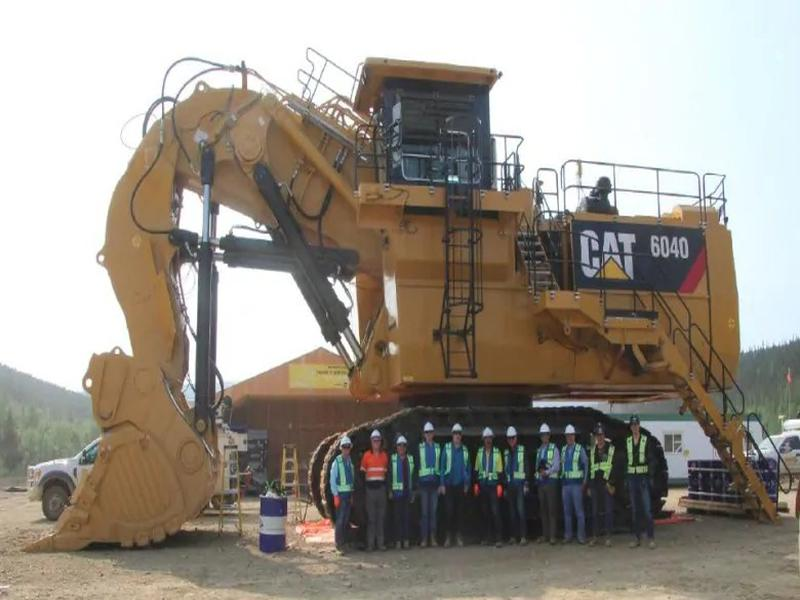shovel: (22, 43, 788, 561)
